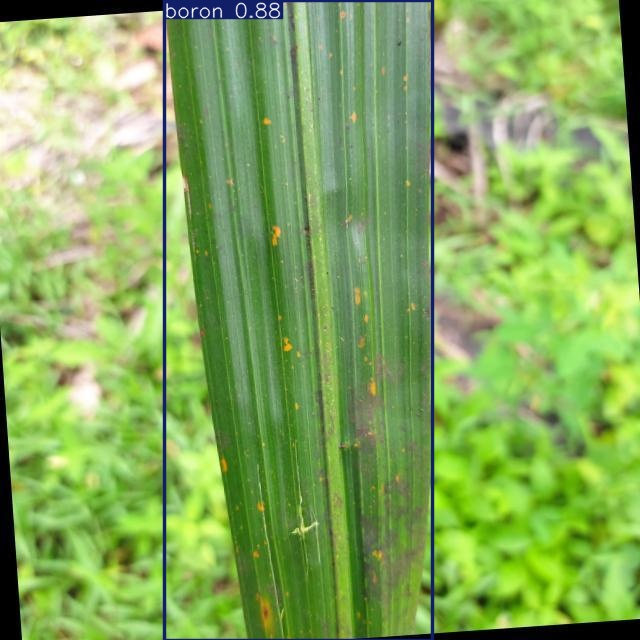nitrogen: (164, 1, 432, 640)
